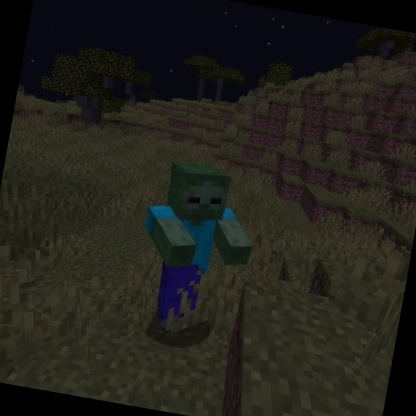zombie: (124, 152, 268, 345)
